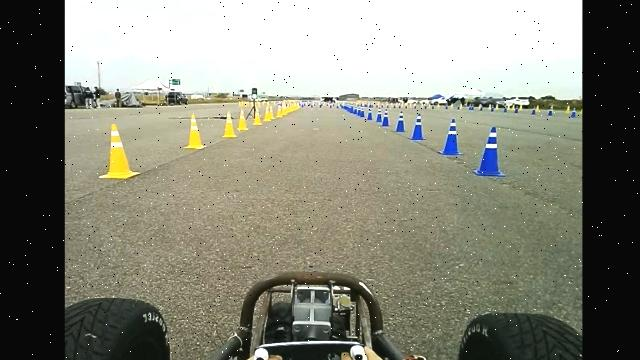blue cone: (472, 126, 507, 177), (439, 118, 464, 156), (409, 112, 427, 140), (395, 110, 406, 133), (382, 109, 390, 126), (376, 109, 382, 122), (367, 110, 373, 120), (530, 108, 536, 115)
yellow cone: (98, 122, 140, 180), (184, 114, 207, 150), (222, 109, 238, 138), (237, 109, 249, 131), (263, 103, 273, 121), (253, 109, 263, 125), (275, 105, 283, 118)
